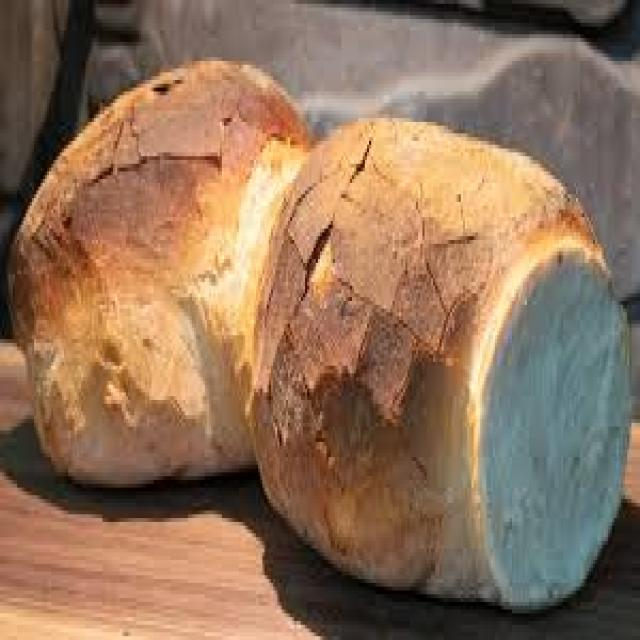Maltese-Bread: (250, 122, 604, 602), (13, 65, 307, 480)
